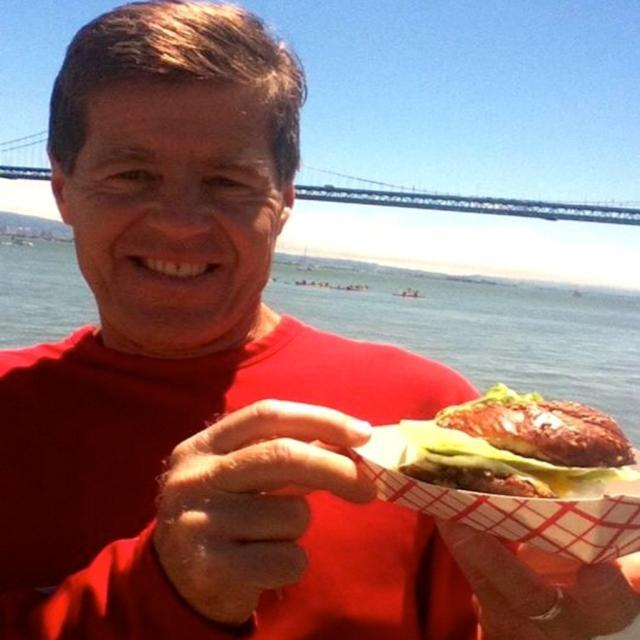Hamburger: (396, 384, 639, 500)
